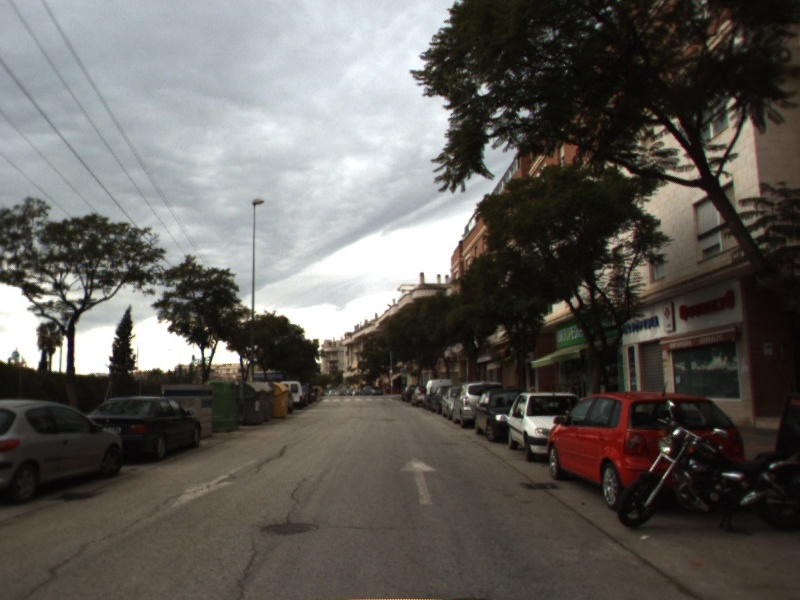STRAIGHT: (397, 452, 441, 507)
